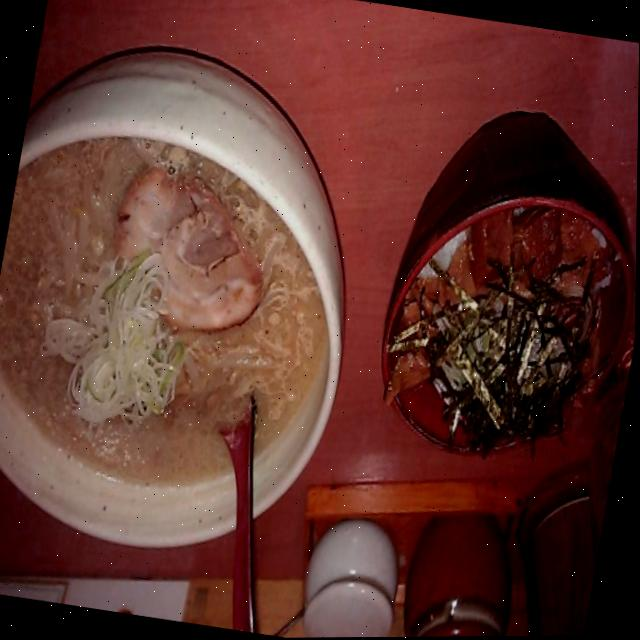面条主食: (0, 12, 407, 585)
